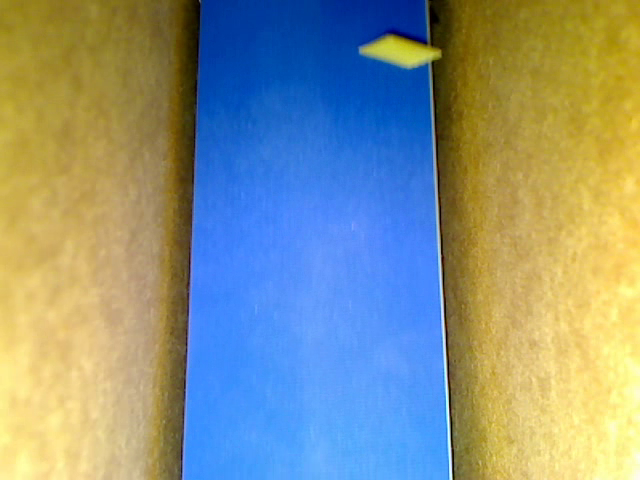penne: (358, 32, 441, 69)
